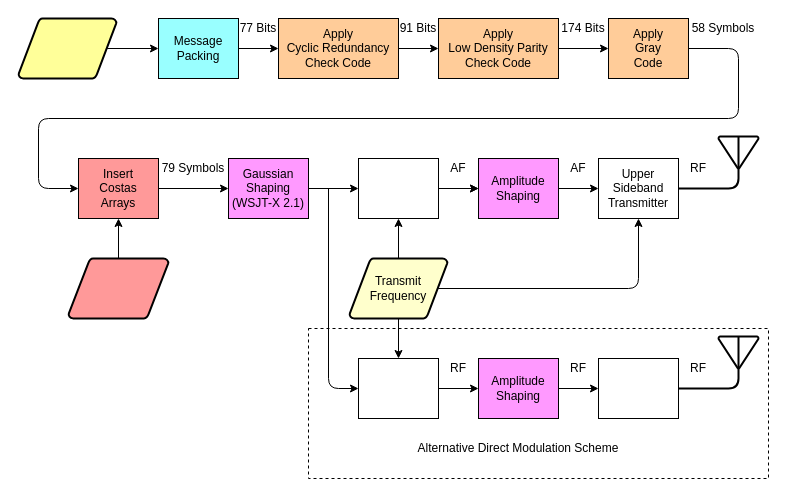
This 786x496 diagram has some shape labels left out. The centre of each missing label's shape, as x and y in pixels:
"Audio Frequency Modulation" goes at [398,188].
"Costas Array" goes at [118,288].
"Power Amplifier" goes at [638,388].
"Radio Frequency Modulation" goes at [398,388].
"Structured Message" goes at [67,48].
